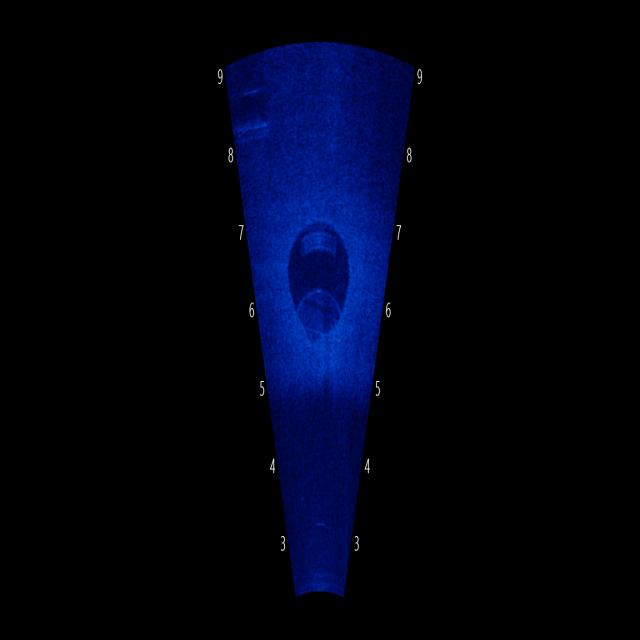circle: (277, 187, 359, 353)
